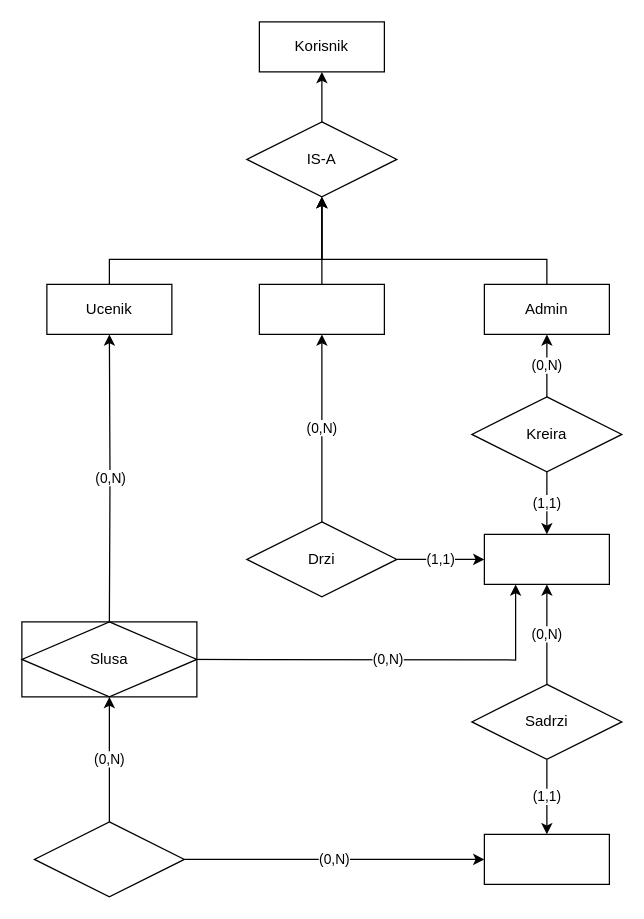
This 644x919 diagram has some shape labels left out. Here are the shapes that lost their labels. From the top down, the centre of each, then its label:
At point 321,308: "Nastavnik".
At point 546,558: "Kurs".
At point 108,859: "Polaze".
At point 546,858: "Test".
